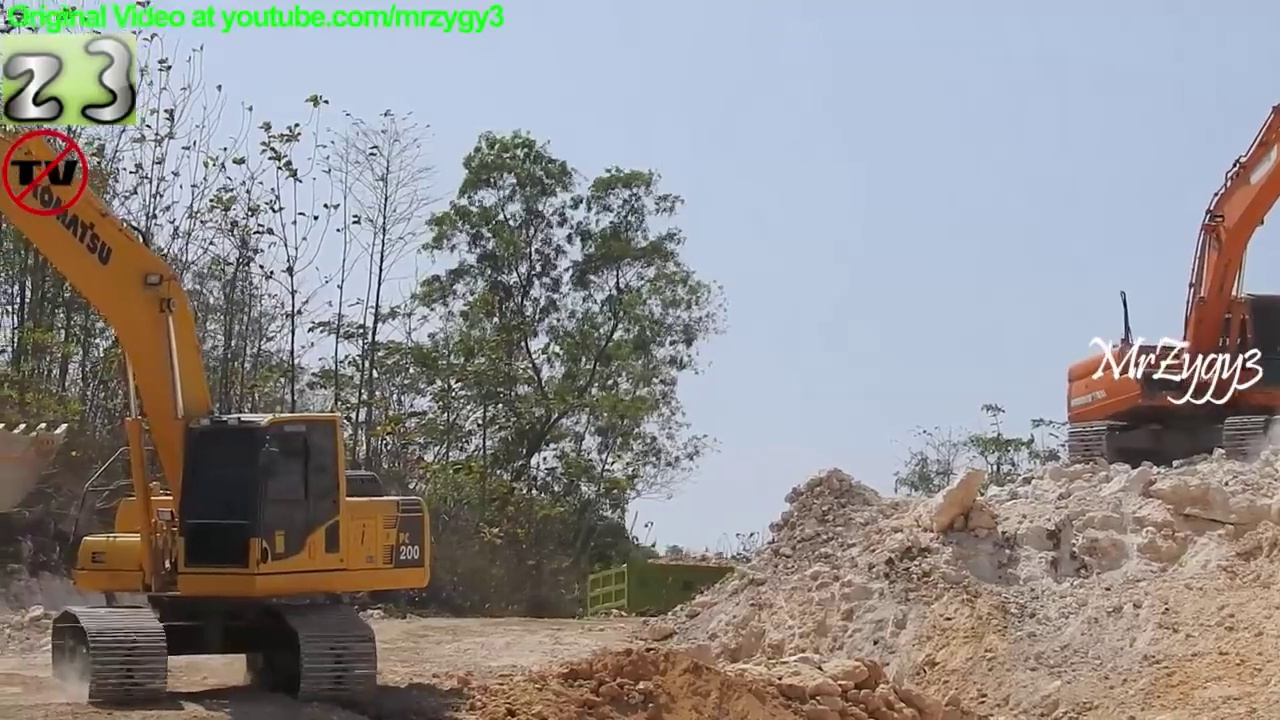excavator: (1, 105, 440, 713), (1060, 98, 1280, 478)
truck: (582, 551, 812, 644)
